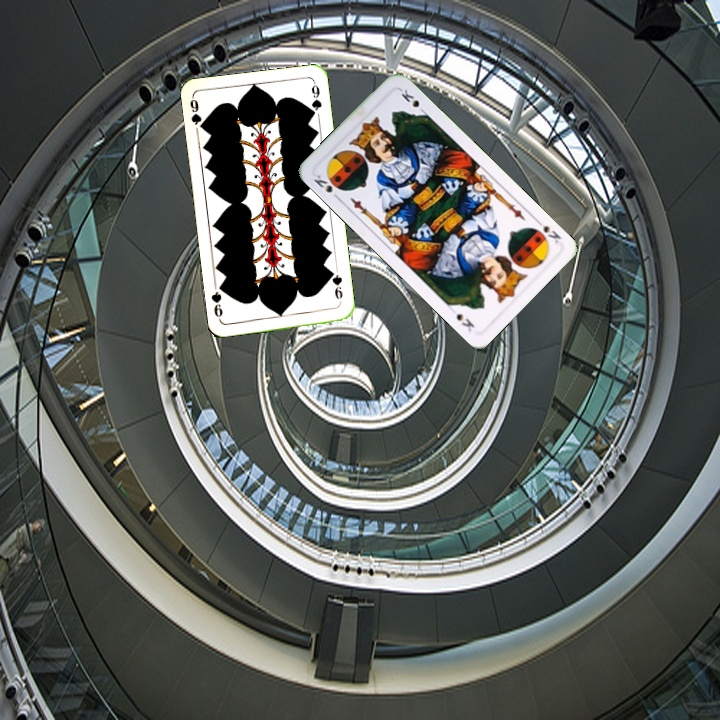G9: (186, 94, 208, 133), (326, 267, 345, 302)
SK: (310, 170, 343, 203), (531, 215, 564, 246)
